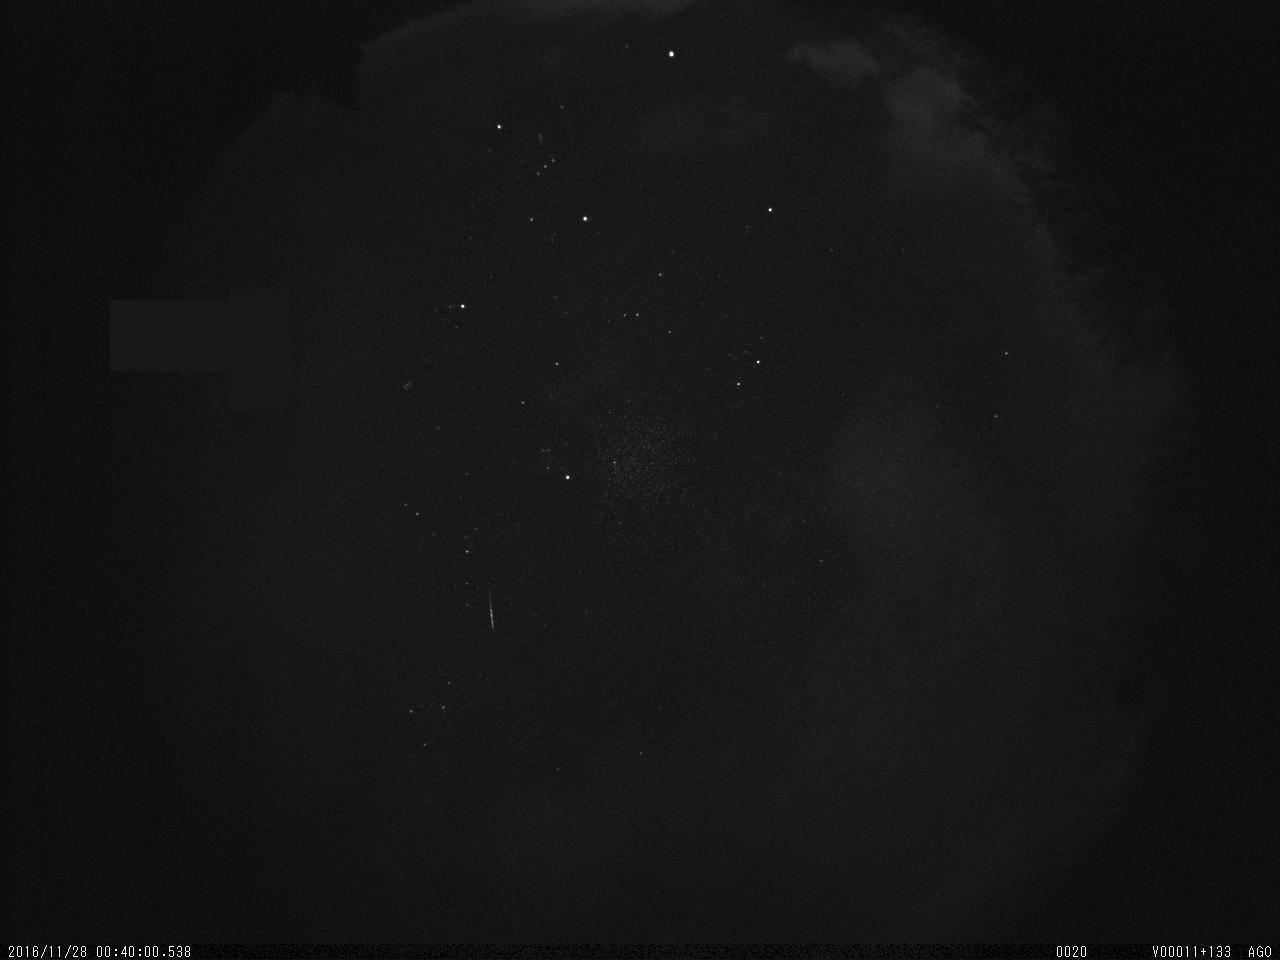Meteor: (482, 586, 499, 635)
